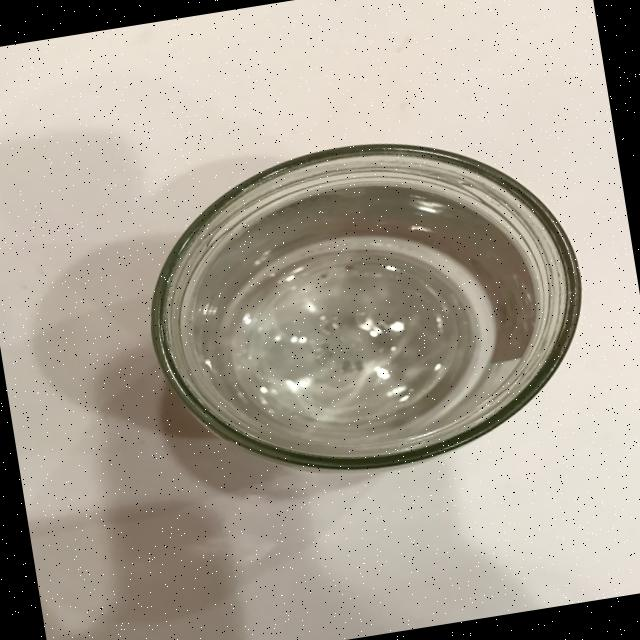glass: (126, 112, 606, 501)
